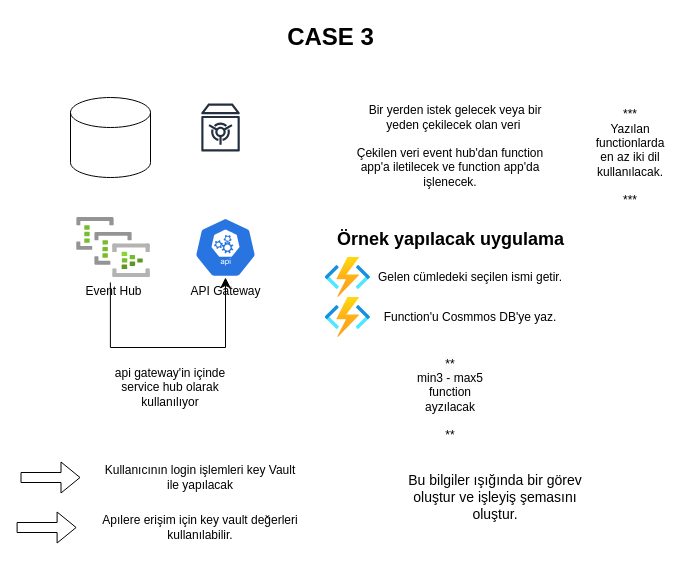
The diagram is 688 pixels wide and 564 high, and some of its shapes have lost their labels. Here are the shapes that lost their labels. From the top down, the centre of each, then its label:
the point at 110,137: CosmosDB
the point at 220,127: Vault
